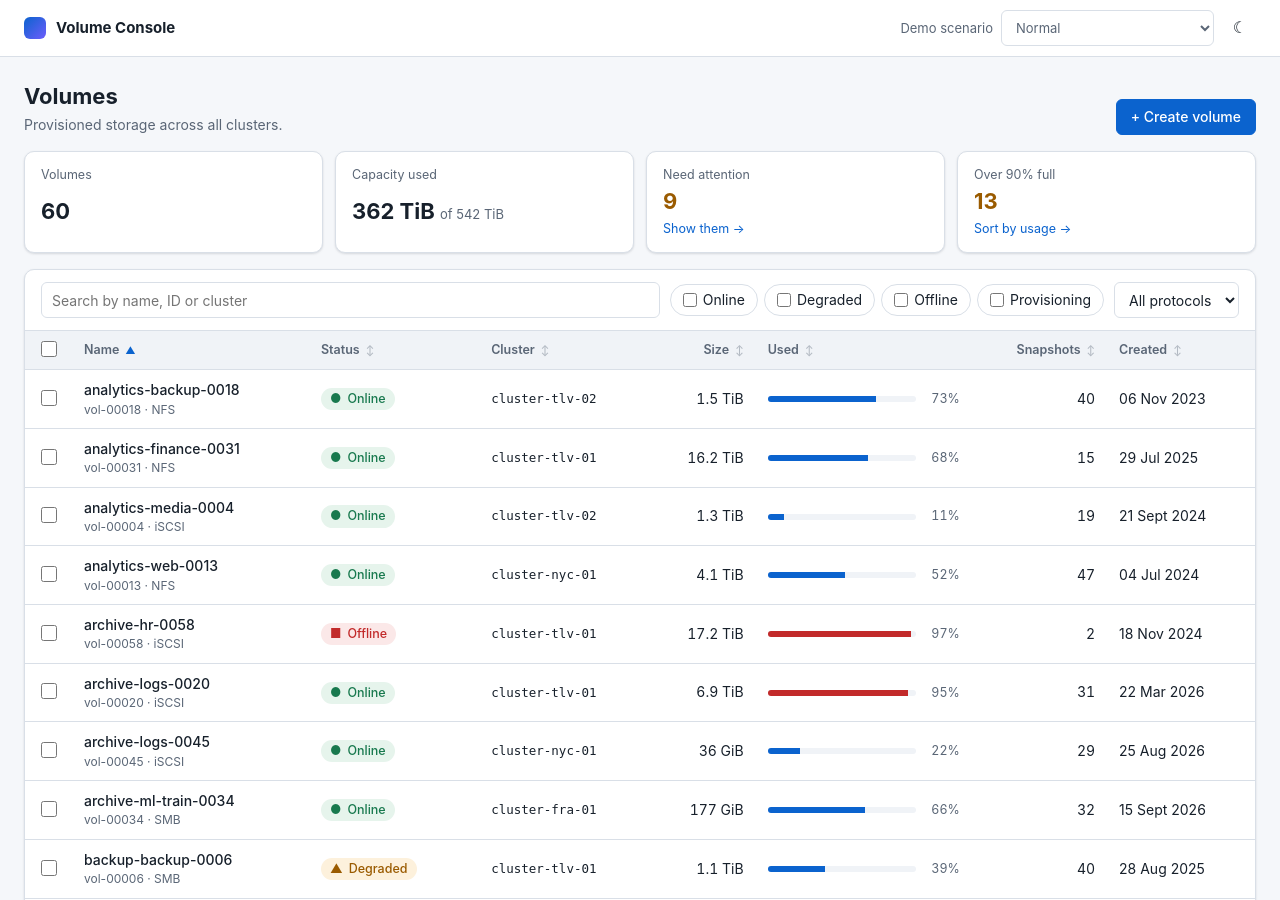
Test case: Volume Console › distinguishes an empty account from an empty search
Select "New account (no data)" in the dropdown labelled "Demo scenario" at (1108, 28), box [1001,10,1214,46]
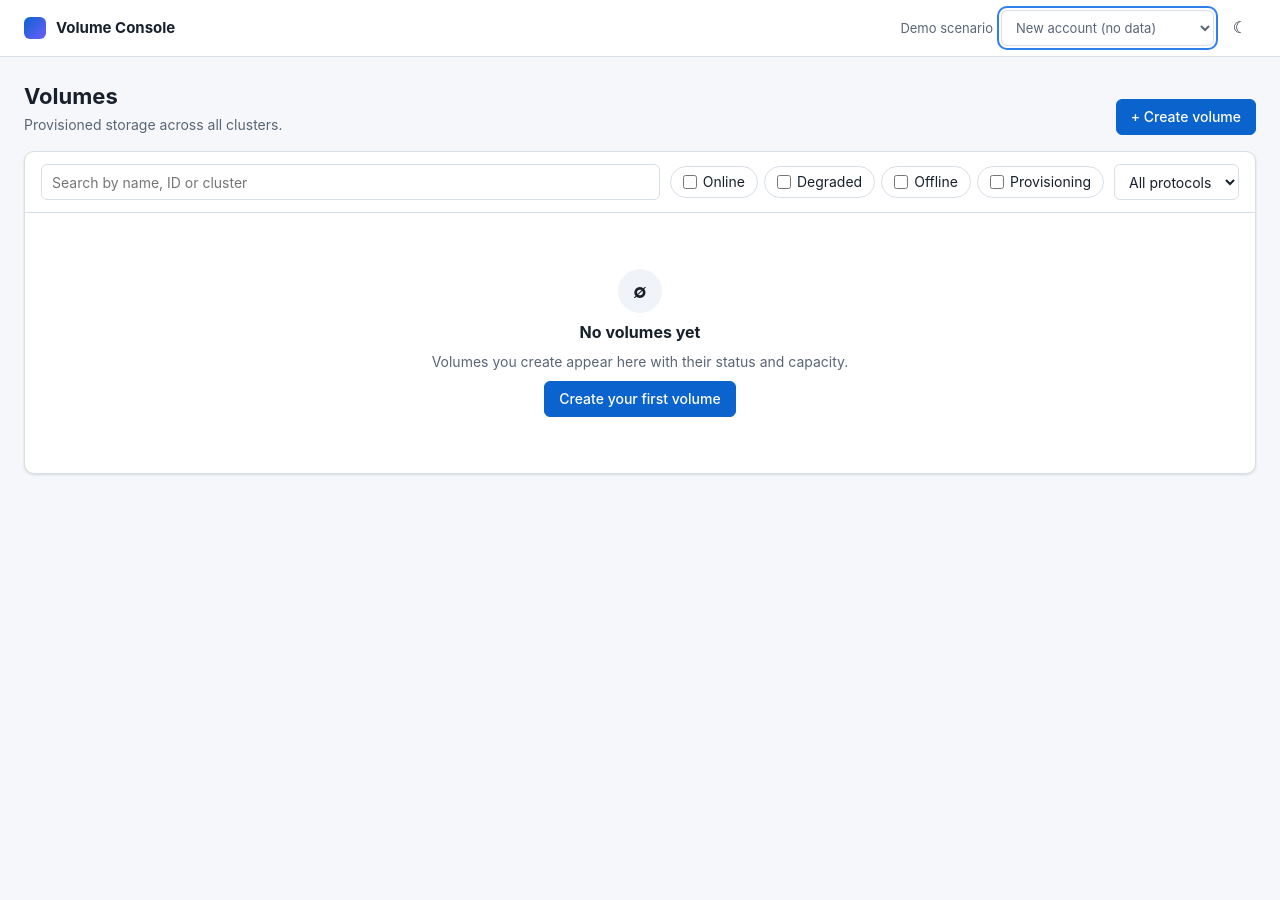
Expected: the heading "No volumes yet" is shown, [580,321,700,344]
Expected: the button "Create your first volume" is shown, [544,381,736,417]
